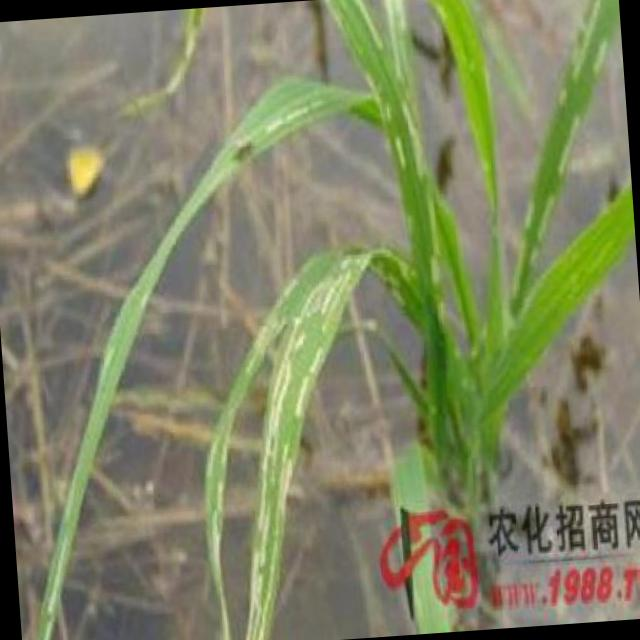rice-bug: (232, 135, 260, 164)
